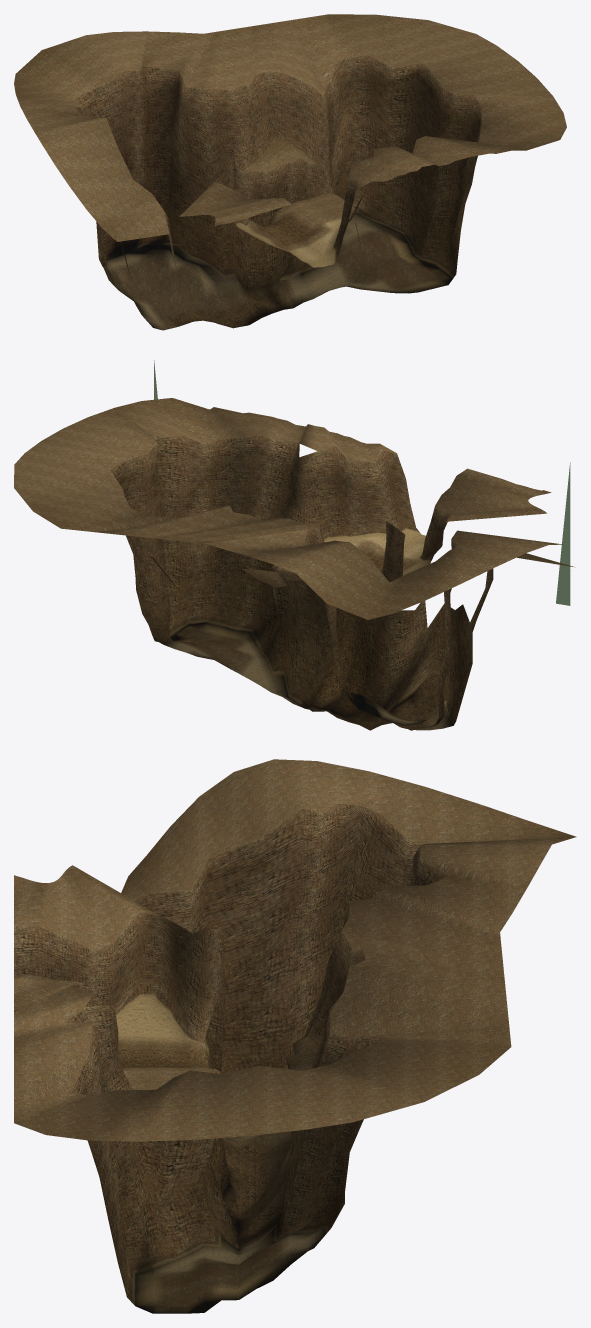
Rendered from Mission12_Zone01A.glb.
3 renders of one model, top to bottom at view 1: azimuth 30°, elevation 25°; view 2: azimuth 150°, elevation 25°; view 3: azimuth 270°, elevation 25°, orthographic. The views are drawn at different scales.
Visible parts, largest first — view 1: MISSION12_ZONE01A181, MISSION12_ZONE01A170, MISSION12_ZONE01A162, MISSION12_ZONE01A109, MISSION12_ZONE01A210, MISSION12_ZONE01A182, MISSION12_ZONE01A211, MISSION12_ZONE01A200, MISSION12_ZONE01A089, MISSION12_ZONE01A161, MISSION12_ZONE01A129, MISSION12_ZONE01A050 (+104 smaller); view 2: MISSION12_ZONE01A068, MISSION12_ZONE01A098, MISSION12_ZONE01A103, MISSION12_ZONE01A024, MISSION12_ZONE01A045, MISSION12_ZONE01A099, MISSION12_ZONE01A046, MISSION12_ZONE01A101, MISSION12_ZONE01A043, MISSION12_ZONE01A066, MISSION12_ZONE01A129, MISSION12_ZONE01A067 (+76 smaller); view 3: MISSION12_ZONE01A136, MISSION12_ZONE01A115, MISSION12_ZONE01A099, MISSION12_ZONE01A176, MISSION12_ZONE01A114, MISSION12_ZONE01A156, MISSION12_ZONE01A218, MISSION12_ZONE01A135, MISSION12_ZONE01A057, MISSION12_ZONE01A155, MISSION12_ZONE01A084, MISSION12_ZONE01A077 (+92 smaller).
Part boxes in pixels (x1,y1,x2,y2): MISSION12_ZONE01A181: (168, 105, 210, 259); MISSION12_ZONE01A170: (385, 63, 421, 222); MISSION12_ZONE01A162: (225, 134, 257, 288); MISSION12_ZONE01A109: (420, 118, 456, 271); MISSION12_ZONE01A210: (107, 70, 139, 182); MISSION12_ZONE01A182: (185, 88, 225, 193); MISSION12_ZONE01A211: (128, 70, 167, 190); MISSION12_ZONE01A200: (163, 71, 199, 214); MISSION12_ZONE01A089: (445, 94, 481, 230); MISSION12_ZONE01A161: (202, 161, 235, 281); MISSION12_ZONE01A129: (408, 112, 440, 259); MISSION12_ZONE01A050: (478, 105, 566, 142); MISSION12_ZONE01A068: (177, 479, 211, 627); MISSION12_ZONE01A098: (384, 610, 434, 709); MISSION12_ZONE01A103: (279, 569, 312, 689); MISSION12_ZONE01A024: (351, 461, 390, 540); MISSION12_ZONE01A045: (250, 436, 297, 589); MISSION12_ZONE01A099: (368, 521, 410, 708); MISSION12_ZONE01A046: (231, 436, 270, 565); MISSION12_ZONE01A101: (324, 608, 360, 711); MISSION12_ZONE01A043: (293, 447, 338, 534); MISSION12_ZONE01A066: (221, 552, 265, 638); MISSION12_ZONE01A129: (136, 482, 172, 642); MISSION12_ZONE01A067: (199, 549, 236, 632); MISSION12_ZONE01A136: (254, 892, 297, 1068); MISSION12_ZONE01A115: (222, 903, 260, 1073); MISSION12_ZONE01A099: (183, 926, 224, 1158); MISSION12_ZONE01A176: (314, 803, 368, 996); MISSION12_ZONE01A114: (204, 837, 261, 965); MISSION12_ZONE01A156: (284, 889, 323, 1052); MISSION12_ZONE01A218: (331, 966, 506, 1009); MISSION12_ZONE01A135: (255, 809, 303, 902); MISSION12_ZONE01A057: (110, 913, 162, 1017); MISSION12_ZONE01A155: (298, 809, 336, 979); MISSION12_ZONE01A084: (146, 1186, 197, 1262); MISSION12_ZONE01A077: (140, 915, 192, 1014).
Bounding box in the file's own units: 187 × 86.28 × 131.
22 materials, 21 textured.
